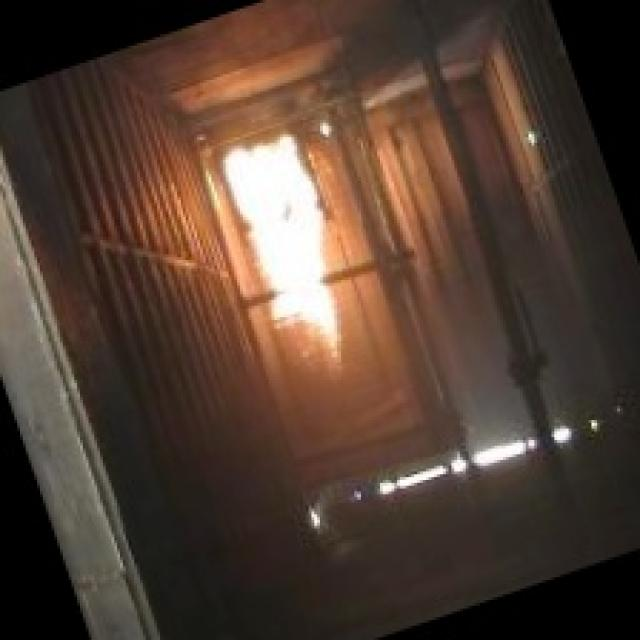fire: (200, 110, 391, 396)
